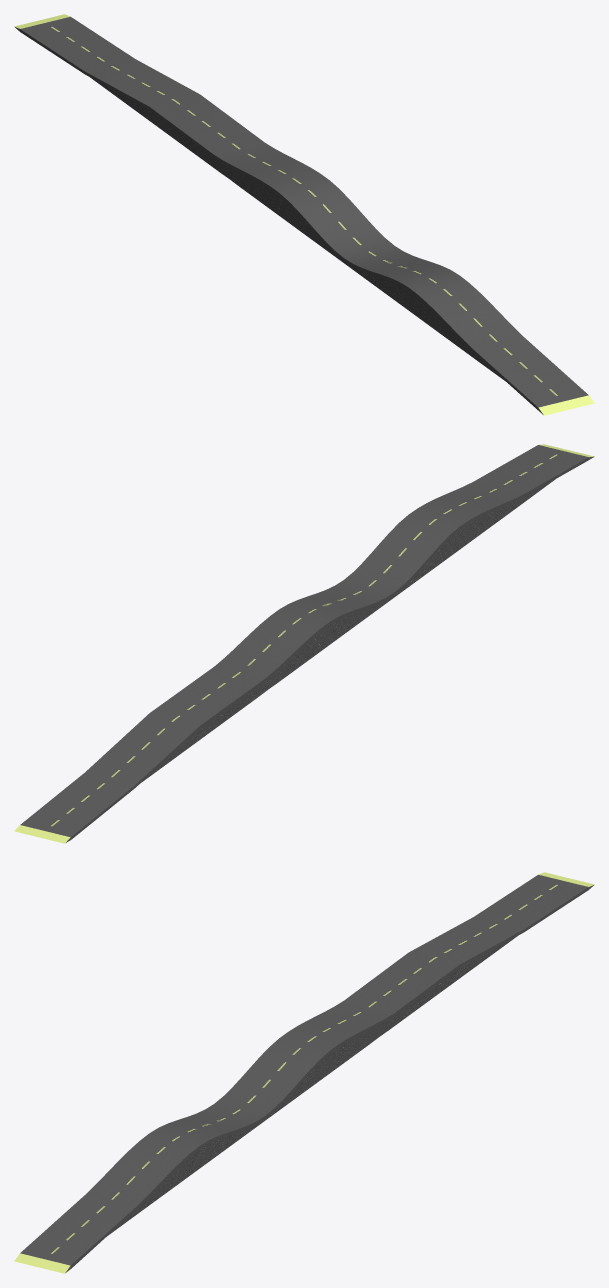
The model's file is Test_track_v2.obj.
3 renders of one model, top to bottom at view 1: azimuth 30°, elevation 25°; view 2: azimuth 150°, elevation 25°; view 3: azimuth 330°, elevation 25°, orthographic.
Visible parts, largest first — view 1: test_track_surface, test_track_body, test_track_buf; view 2: test_track_surface, test_track_body, test_track_buf; view 3: test_track_surface, test_track_body, test_track_buf.
Part boxes in pixels (<box>): test_track_surface: <box>20,16,588,407</box>; test_track_body: <box>15,27,543,414</box>; test_track_buf: <box>14,14,594,415</box>; test_track_surface: <box>20,445,588,837</box>; test_track_body: <box>66,456,594,842</box>; test_track_buf: <box>14,444,594,843</box>; test_track_surface: <box>20,874,588,1265</box>; test_track_body: <box>65,885,593,1273</box>; test_track_buf: <box>14,872,594,1273</box>.
Bounding box in the file's own units: 22.07 × 12.16 × 400.
